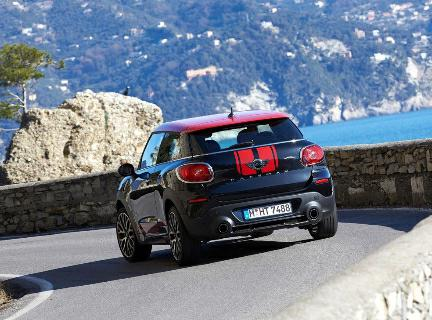MINI-JCWPACEMAN: (112, 112, 338, 262)
